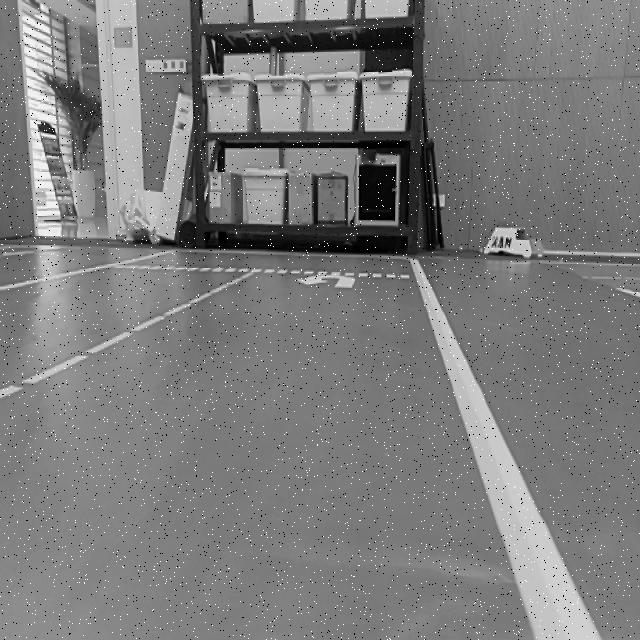left_lane: (0, 270, 251, 404)
right_lane: (411, 259, 606, 640), (1, 251, 159, 298)
